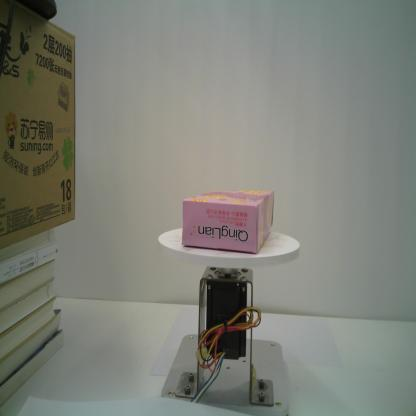Dessert: (181, 187, 276, 256)
